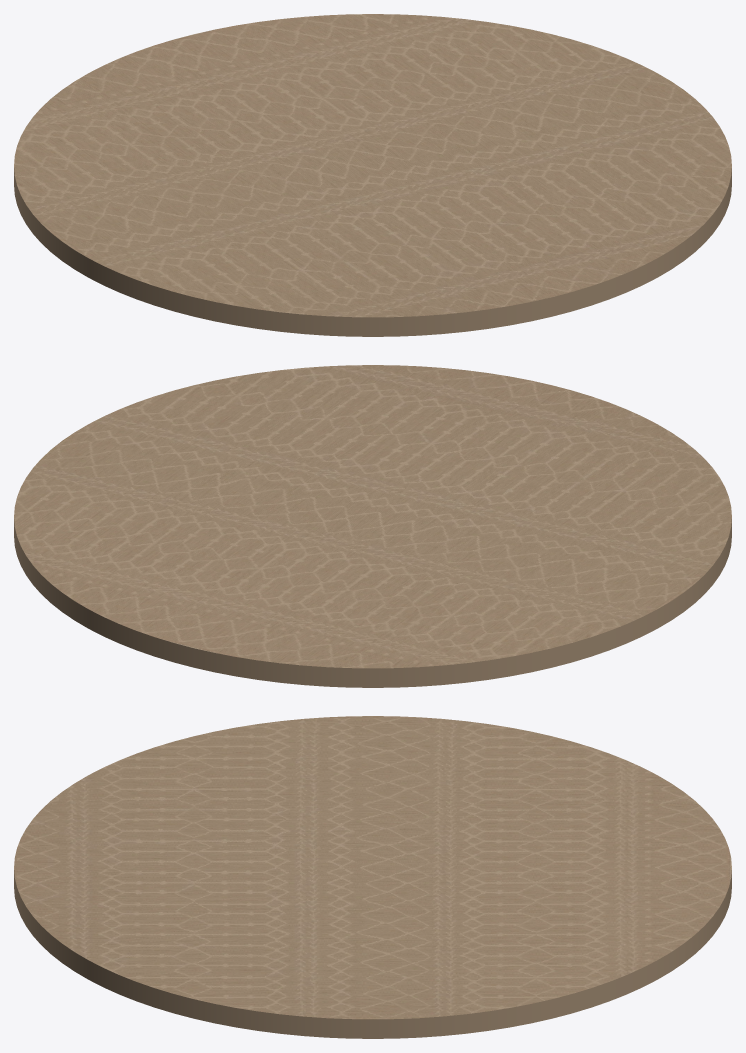
File: rug_round_maple_overlay_extrudable.glb
3 renders of one model, top to bottom at view 1: azimuth 30°, elevation 25°; view 2: azimuth 150°, elevation 25°; view 3: azimuth 270°, elevation 25°, orthographic.
Visible parts, largest first — view 1: RoundRug; view 2: RoundRug; view 3: RoundRug.
Boxes of the visible parts, x1,y1,x2,y2 form: RoundRug: [14, 14, 731, 336]; RoundRug: [14, 365, 731, 687]; RoundRug: [14, 716, 731, 1038].
Bounding box in the file's own units: 2 × 0.06 × 2.
Materials: 2 (1 with a texture image).
